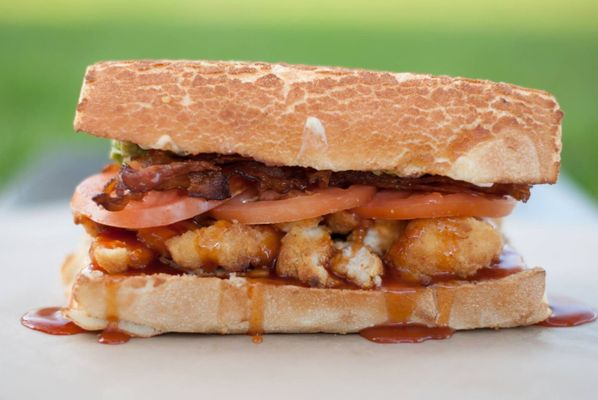soup: (55, 58, 563, 338)
